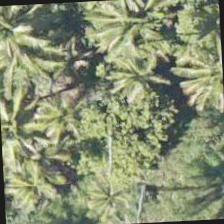Kelapa_Sawit: (93, 0, 188, 90), (0, 100, 67, 194), (164, 29, 224, 123), (0, 3, 53, 84)
